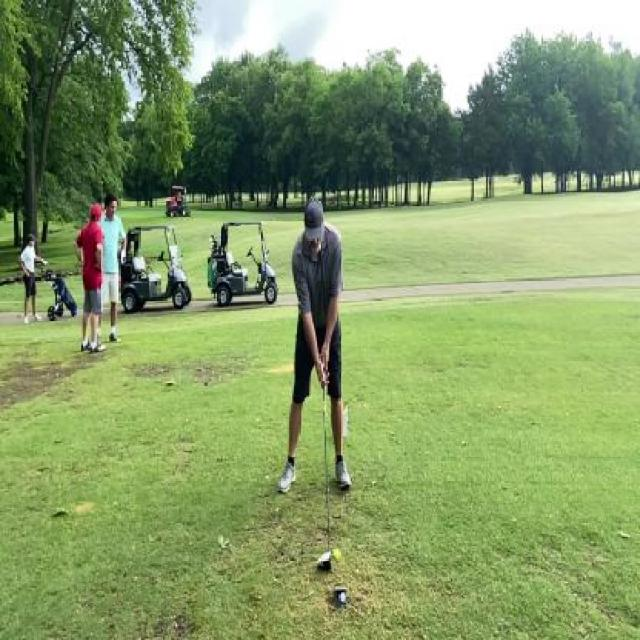club head: (317, 544, 332, 571)
